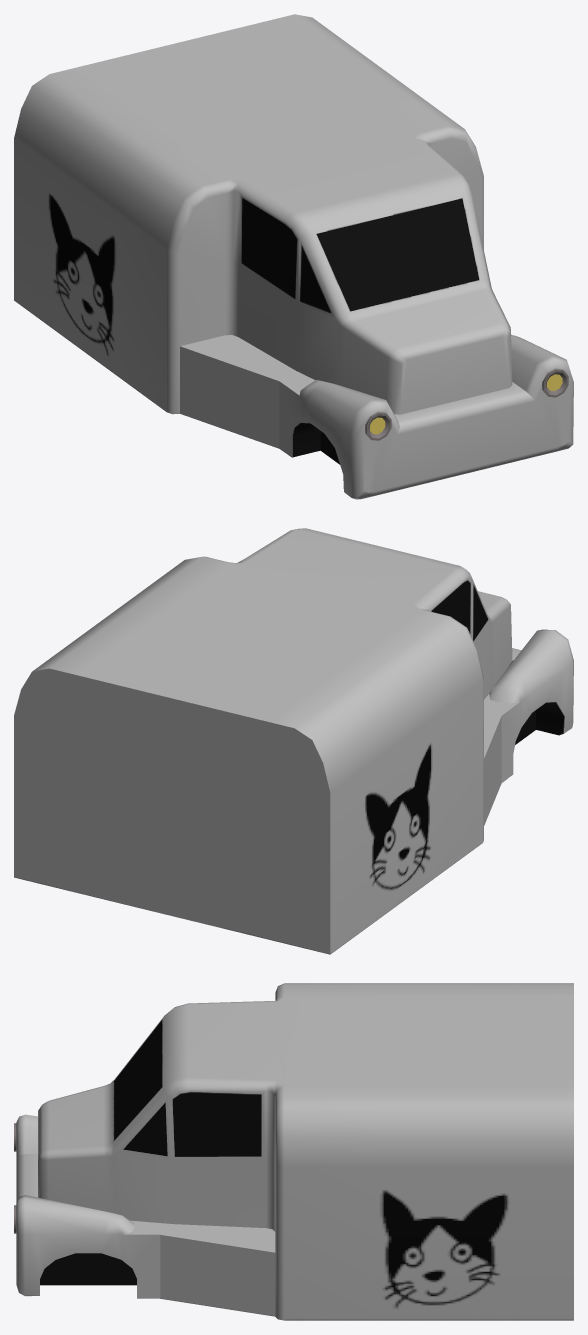
Rendered from cardboard_car4_body.fbx.
3 renders of one model, top to bottom at view 1: azimuth 30°, elevation 25°; view 2: azimuth 150°, elevation 25°; view 3: azimuth 270°, elevation 25°, orthographic. The views are drawn at different scales.
Parts seen in each view (by area): view 1: cardboard_car_4_body; view 2: cardboard_car_4_body; view 3: cardboard_car_4_body.
Part boxes in pixels (<box>): cardboard_car_4_body: <box>14,14,573,499</box>; cardboard_car_4_body: <box>14,528,573,954</box>; cardboard_car_4_body: <box>14,983,573,1320</box>.
Size of the model in its own units: 170 by 112 by 275.
